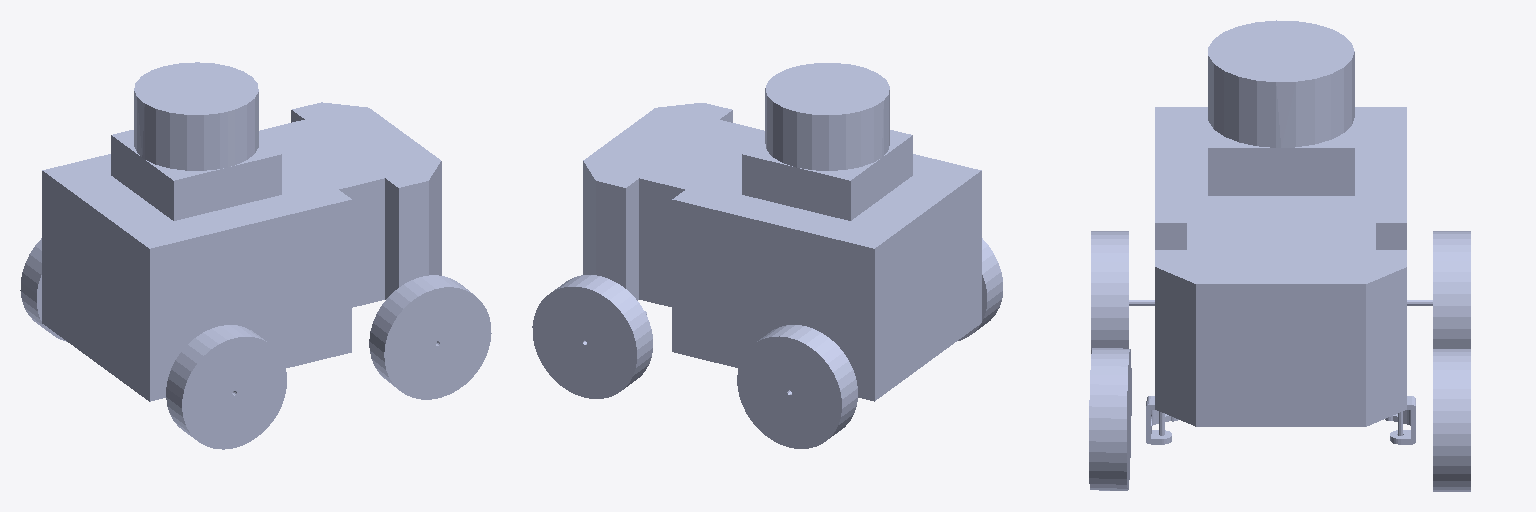
URDF robot description (simple_assem):
<?xml version="1.0" encoding="utf-8"?>
<!-- This URDF was automatically created by SolidWorks to URDF Exporter! Originally created by Stephen Brawner (brawner@gmail.com) 
     Commit Version: 1.6.0-4-g7f85cfe  Build Version: 1.6.7995.38578
     For more information, please see http://wiki.ros.org/sw_urdf_exporter -->
<robot
  name="simple_assem">
  <link
    name="base_link">
    <inertial>
      <origin
        xyz="-0.0164595267909075 5.31517375002011E-07 -0.0365264578717794"
        rpy="0 0 0" />
      <mass
        value="2.26627617496802" />
      <inertia
        ixx="0.00501293963941912"
        ixy="6.19702935424565E-08"
        ixz="6.08599077393897E-05"
        iyy="0.00919105513442487"
        iyz="5.89918227661992E-08"
        izz="0.00887992545896034" />
    </inertial>
    <visual>
      <origin
        xyz="0 0 0"
        rpy="0 0 0" />
      <geometry>
        <mesh
          filename="../meshes/base_link.STL" />
      </geometry>
      <material
        name="">
        <color
          rgba="0.792156862745098 0.819607843137255 0.933333333333333 1" />
      </material>
    </visual>
    <collision>
      <origin
        xyz="0 0 0"
        rpy="0 0 0" />
      <geometry>
        <mesh
          filename="../meshes/base_link.STL" />
      </geometry>
    </collision>
  </link>
    <!-- LiDAR reference frame; physical housing is already in base_link.STL -->
  <link name="lidar_link">
    <inertial>
      <mass value="0.001"/>
      <origin xyz="0 0 0" rpy="0 0 0"/>
      <inertia
        ixx="0.000001" ixy="0" ixz="0"
        iyy="0.000001" iyz="0"
        izz="0.000001"/>
    </inertial>
  </link>
  <link
    name="link_BL">
    <inertial>
      <origin
        xyz="2.2204E-16 -0.009 0"
        rpy="0 0 0" />
      <mass
        value="0.065243" />
      <inertia
        ixx="2.0653E-05"
        ixy="4.4668E-24"
        ixz="-6.5641E-22"
        iyy="3.7784E-05"
        iyz="-1.2596E-21"
        izz="2.0653E-05" />
    </inertial>
    <visual>
      <origin
        xyz="0 0 0"
        rpy="0 0 0" />
      <geometry>
        <mesh
          filename="../meshes/link_BL.STL" />
      </geometry>
      <material
        name="">
        <color
          rgba="0.79216 0.81961 0.93333 1" />
      </material>
    </visual>
    <collision>
      <origin
        xyz="0 0 0"
        rpy="0 0 0" />
      <geometry>
        <mesh
          filename="../meshes/link_BL.STL" />
      </geometry>
    </collision>
  </link>
  <joint
    name="joint_BL"
    type="continuous">
    <origin
      xyz="-0.067906 0.0905 -0.0855"
      rpy="0 0 0" />
    <parent
      link="base_link" />
    <child
      link="link_BL" />
    <axis
      xyz="0 1 0" />
  </joint>
  <link
    name="link_BR">
    <inertial>
      <origin
        xyz="1.11022302462516E-16 0.0089999999999999 1.11022302462516E-16"
        rpy="0 0 0" />
      <mass
        value="0.0652430254334261" />
      <inertia
        ixx="2.0653495238769E-05"
        ixy="2.9778502051863E-24"
        ixz="6.0618287331041E-22"
        iyy="3.77838671041329E-05"
        iyz="-5.0524191814739E-22"
        izz="2.0653495238769E-05" />
    </inertial>
    <visual>
      <origin
        xyz="0 0 0"
        rpy="0 0 0" />
      <geometry>
        <mesh
          filename="../meshes/link_BR.STL" />
      </geometry>
      <material
        name="">
        <color
          rgba="0.792156862745098 0.819607843137255 0.933333333333333 1" />
      </material>
    </visual>
    <collision>
      <origin
        xyz="0 0 0"
        rpy="0 0 0" />
      <geometry>
        <mesh
          filename="../meshes/link_BR.STL" />
      </geometry>
    </collision>
  </link>
  <joint
    name="joint_BR"
    type="continuous">
    <origin
      xyz="-0.067906 -0.0905 -0.0855"
      rpy="0 0 0" />
    <parent
      link="base_link" />
    <child
      link="link_BR" />
    <axis
      xyz="0 1 0" />
  </joint>
  <link
    name="link_steeringknuckle_left">
    <inertial>
      <origin
        xyz="-0.00353949449450641 0.00285589589371238 0.0105000000000002"
        rpy="0 0 0" />
      <mass
        value="0.00134067577209632" />
      <inertia
        ixx="8.31309652695228E-08"
        ixy="-6.98527377032567E-09"
        ixz="-6.03185789489357E-10"
        iyy="1.0879227134614E-07"
        iyz="5.28973769132284E-22"
        izz="6.3064061697668E-08" />
    </inertial>
    <visual>
      <origin
        xyz="0 0 0"
        rpy="0 0 0" />
      <geometry>
        <mesh
          filename="../meshes/link_steeringknuckle_left.STL" />
      </geometry>
      <material
        name="">
        <color
          rgba="0.792156862745098 0.819607843137255 0.933333333333333 1" />
      </material>
    </visual>
    <collision>
      <origin
        xyz="0 0 0"
        rpy="0 0 0" />
      <geometry>
        <mesh
          filename="../meshes/link_steeringknuckle_left.STL" />
      </geometry>
    </collision>
  </link>
  <joint
    name="joint_steeringknuckle_left"
    type="revolute">
    <origin
      xyz="0.064694 0.05685 -0.096"
      rpy="0 0 0" />
    <parent
      link="base_link" />
    <child
      link="link_steeringknuckle_left" />
    <axis
      xyz="0 0 1" />
    <limit
      lower="-1.5"
      upper="1.5"
      effort="10"
      velocity="2.0" />
  </joint>
  <link
    name="link_FL">
    <inertial>
      <origin
        xyz="0 -0.00900000000000012 1.11022302462516E-16"
        rpy="0 0 0" />
      <mass
        value="0.0652430254334261" />
      <inertia
        ixx="2.0653495238769E-05"
        ixy="1.46162667544699E-24"
        ixz="5.87551913647104E-23"
        iyy="3.77838671041329E-05"
        iyz="1.63279995978679E-20"
        izz="2.0653495238769E-05" />
    </inertial>
    <visual>
      <origin
        xyz="0 0 0"
        rpy="0 0 0" />
      <geometry>
        <mesh
          filename="../meshes/link_FL.STL" />
      </geometry>
      <material
        name="">
        <color
          rgba="0.792156862745098 0.819607843137255 0.933333333333333 1" />
      </material>
    </visual>
    <collision>
      <origin
        xyz="0 0 0"
        rpy="0 0 0" />
      <geometry>
        <mesh
          filename="../meshes/link_FL.STL" />
      </geometry>
    </collision>
  </link>
  <joint
    name="joint_FL"
    type="continuous">
    <origin
      xyz="0 0.03365 0.0105"
      rpy="0 0 0" />
    <parent
      link="link_steeringknuckle_left" />
    <child
      link="link_FL" />
    <axis
      xyz="0 1 0" />
  </joint>
  <link
    name="link_steeringknuckle_right">
    <inertial>
      <origin
        xyz="-0.0036387564275886 -0.00272829879101488 0.0105"
        rpy="0 0 0" />
      <mass
        value="0.00134067577209636" />
      <inertia
        ixx="8.3659574275409E-08"
        ixy="7.87904941348532E-09"
        ixz="6.02804733974993E-10"
        iyy="1.08263662340258E-07"
        iyz="-2.14371019270732E-11"
        izz="6.30640616976693E-08" />
    </inertial>
    <visual>
      <origin
        xyz="0 0 0"
        rpy="0 0 0" />
      <geometry>
        <mesh
          filename="../meshes/link_steeringknuckle_right.STL" />
      </geometry>
      <material
        name="">
        <color
          rgba="0.792156862745098 0.819607843137255 0.933333333333333 1" />
      </material>
    </visual>
    <collision>
      <origin
        xyz="0 0 0"
        rpy="0 0 0" />
      <geometry>
        <mesh
          filename="../meshes/link_steeringknuckle_right.STL" />
      </geometry>
    </collision>
  </link>
  <joint
    name="joint_steeringknuckle_right"
    type="revolute">
    <origin
      xyz="0.064694 -0.05685 -0.096"
      rpy="0 0 0" />
    <parent
      link="base_link" />
    <child
      link="link_steeringknuckle_right" />
    <axis
      xyz="0 0 1" />
    <limit
      lower="-1.5"
      upper="1.5"
      effort="10"
      velocity="2.0" />
  </joint>


    <!-- LiDAR frame mounted above the chassis. -->
  <joint name="lidar_joint" type="fixed">
    <parent link="base_link"/>
    <child link="lidar_link"/>
    <origin xyz="0 0 0.1" rpy="0 0 0"/>
  </joint>
  <link
    name="link_FR">
    <inertial>
      <origin
        xyz="0.000319858194118283 0.00899431435606157 0"
        rpy="0 0 0" />
      <mass
        value="0.065243025433426" />
      <inertia
        ixx="2.06751322232565E-05"
        ixy="6.084253702961E-07"
        ixz="5.0092646276953E-22"
        iyy="3.77622301196452E-05"
        iyz="-2.87994332518971E-21"
        izz="2.06534952387689E-05" />
    </inertial>
    <visual>
      <origin
        xyz="0 0 0"
        rpy="0 0 0" />
      <geometry>
        <mesh
          filename="../meshes/link_FR.STL" />
      </geometry>
      <material
        name="">
        <color
          rgba="0.792156862745098 0.819607843137255 0.933333333333333 1" />
      </material>
    </visual>
    <collision>
      <origin
        xyz="0 0 0"
        rpy="0 0 0" />
      <geometry>
        <mesh
          filename="../meshes/link_FR.STL" />
      </geometry>
    </collision>
  </link>
  <joint
    name="joint_FR"
    type="continuous">
    <origin
      xyz="-0.0011959 -0.033629 0.0105"
      rpy="0 0 0" />
    <parent
      link="link_steeringknuckle_right" />
    <child
      link="link_FR" />
    <axis
      xyz="0.03554 0.99937 0" />
  </joint>
  
  <gazebo reference="lidar_link">
    <sensor name="lidar_sensor" type="gpu_lidar">
      <topic>/AGV/lidar/scan</topic>
      <gz_frame_id>lidar_link</gz_frame_id>
      <update_rate>10</update_rate>
      <always_on>true</always_on>
      <visualize>true</visualize>

      <lidar>
        <scan>
          <horizontal>
            <samples>2000</samples>
            <resolution>1</resolution>
            <min_angle>-3.14159265</min_angle>
            <max_angle>3.14159265</max_angle>
          </horizontal>
        </scan>
        <range>
          <min>0.005</min>
          <max>15.0</max>
          <resolution>0.001</resolution>
        </range>
      </lidar>
    </sensor>
  </gazebo>

    <link name="camera_link">

    </link>

    <joint name="camera_joint" type="fixed">
      <parent link="lidar_link"/>
      <child link="camera_link"/>
      <!-- Temporary offset: 3 cm above the LiDAR frame -->
      <origin xyz="0 0.01 0.014" rpy="0 0.5236 0"/>
    </joint>

    <gazebo reference="camera_link">
      <sensor name="rgb_camera" type="camera">
        <topic>/AGV/camera/image_raw</topic>
        <gz_frame_id>camera_link</gz_frame_id>

        <update_rate>50</update_rate>
        <always_on>true</always_on>
        <visualize>true</visualize>

        <camera>
          <horizontal_fov>1.78</horizontal_fov>
          <vertical_fov>1.169</vertical_fov>
          <image>
            <width>1920</width>
            <height>1080</height>
            <format>R8G8B8</format>
          </image>

          <clip>
            <near>0.05</near>
            <far>100</far>
          </clip>
        </camera>
      </sensor>
    </gazebo>
    <gazebo>
      <plugin
          filename="gz-sim-ackermann-steering-system"
          name="gz::sim::systems::AckermannSteering">

        <!-- Rear driven wheels -->
        <left_joint>joint_BL</left_joint>
        <right_joint>joint_BR</right_joint>

        <!-- Front steering joints -->
        <left_steering_joint>joint_steeringknuckle_left</left_steering_joint>
        <right_steering_joint>joint_steeringknuckle_right</right_steering_joint>

        <!-- Vehicle dimensions -->
        <wheel_base>0.1046</wheel_base>
        <wheel_separation>0.181</wheel_separation>
        <kingpin_width>0.1137</kingpin_width>
        <wheel_radius>0.034</wheel_radius>

        <steering_limit>0.5</steering_limit>
        <!-- Gazebo applies these limits to BOTH m/s and rad/s. -->
        <min_velocity>-1.5</min_velocity>
        <max_velocity>1.5</max_velocity>

        <topic>/AGV/cmd_vel</topic>
        <!-- Wheel odometry of this plugin drifts (heading error), so it is
             moved out of the way; /AGV/odometry comes from the plugin below. -->
        <odom_topic>/AGV/wheel_odometry</odom_topic>
      </plugin>
    </gazebo>

    <!-- Odometry from the simulator's true motion (no drift). -->
    <gazebo>
      <plugin
          filename="gz-sim-odometry-publisher-system"
          name="gz::sim::systems::OdometryPublisher">
        <odom_frame>odom</odom_frame>
        <robot_base_frame>base_link</robot_base_frame>
        <odom_topic>/AGV/odometry</odom_topic>
        <odom_publish_frequency>30</odom_publish_frequency>
        <dimensions>2</dimensions>
      </plugin>
    </gazebo>
    
    

</robot>

--- Facts derived from the render (not from the file) ---
3 views of the same robot in one strip: view 1: azimuth 30°, elevation 25°; view 2: azimuth 150°, elevation 25°; view 3: azimuth 270°, elevation 25° (orthographic).
Model simple_assem with 9 links and 8 joints (2 revolute, 4 continuous, 2 fixed), rooted at base_link, posed all joints at 0.
Visible links, largest first — view 1: base_link, link_FR, link_BR, link_BL; view 2: base_link, link_BL, link_FL, link_BR; view 3: base_link, link_FR, link_FL, link_BL, link_BR, link_steeringknuckle_right, link_steeringknuckle_left.
Boxes of the visible links, x1,y1,x2,y2 form: base_link: [42, 62, 441, 401]; link_FR: [369, 275, 491, 399]; link_BR: [166, 325, 286, 449]; link_BL: [20, 238, 66, 341]; base_link: [583, 63, 981, 401]; link_BL: [737, 325, 857, 448]; link_FL: [532, 275, 652, 398]; link_BR: [958, 238, 1002, 340]; base_link: [1129, 20, 1432, 435]; link_FR: [1089, 348, 1131, 490]; link_FL: [1433, 349, 1470, 491]; link_BL: [1433, 231, 1470, 348]; link_BR: [1091, 231, 1128, 353]; link_steeringknuckle_right: [1146, 396, 1178, 444]; link_steeringknuckle_left: [1385, 396, 1415, 444].
Bounding box of the posed robot: 0.2039 × 0.1822 × 0.179 m (x, y, z).
7 mesh visuals loaded from 7 distinct referenced files (7 binary STL).
